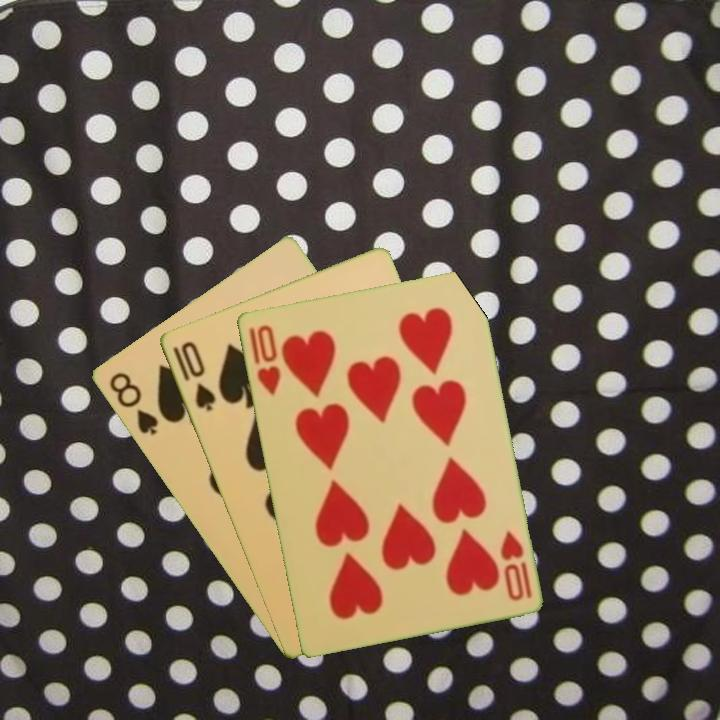10h: (496, 526, 534, 604), (253, 320, 283, 398)
10s: (177, 337, 218, 414)
8s: (105, 368, 161, 438)
